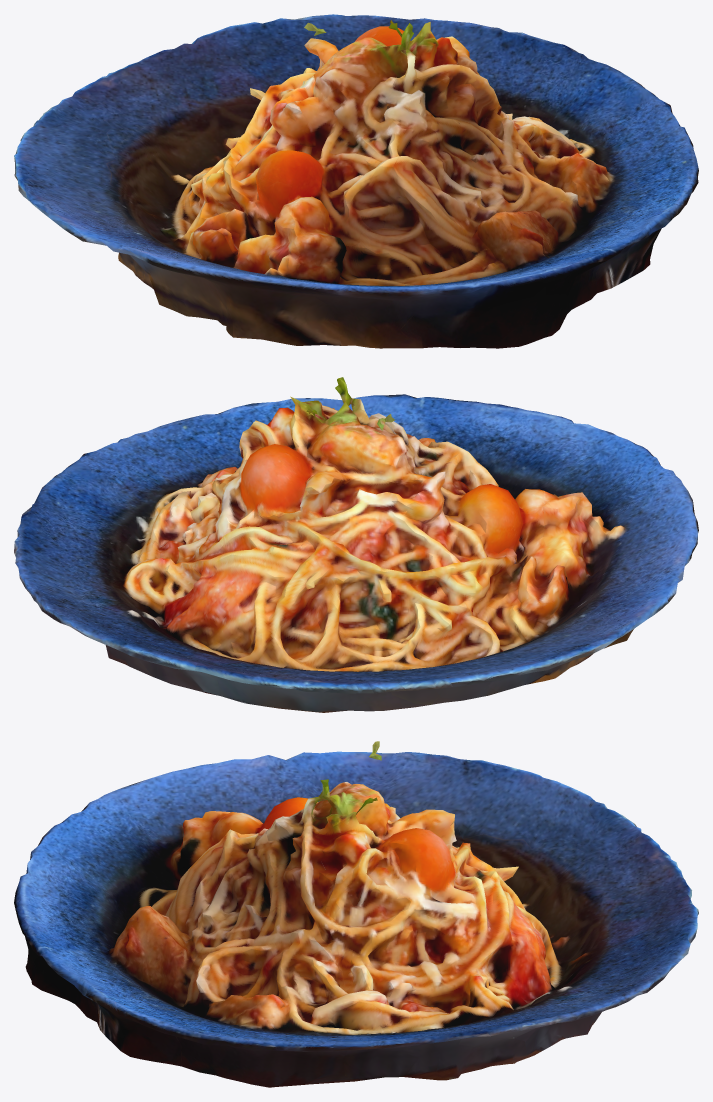
File: spaghetti_seadfood_pasta-poly (2).glb
3 renders of one model, top to bottom at view 1: azimuth 30°, elevation 25°; view 2: azimuth 150°, elevation 25°; view 3: azimuth 270°, elevation 25°, orthographic.
Parts seen in each view (by area): view 1: Object_2; view 2: Object_2; view 3: Object_2.
Boxes of the visible parts, <box> form: Object_2: <box>14,14,698,348</box>; Object_2: <box>14,377,698,712</box>; Object_2: <box>14,741,698,1087</box>.
Bounding box in the file's own units: 241 × 80.57 × 241.
Materials: 1 (1 with a texture image).
